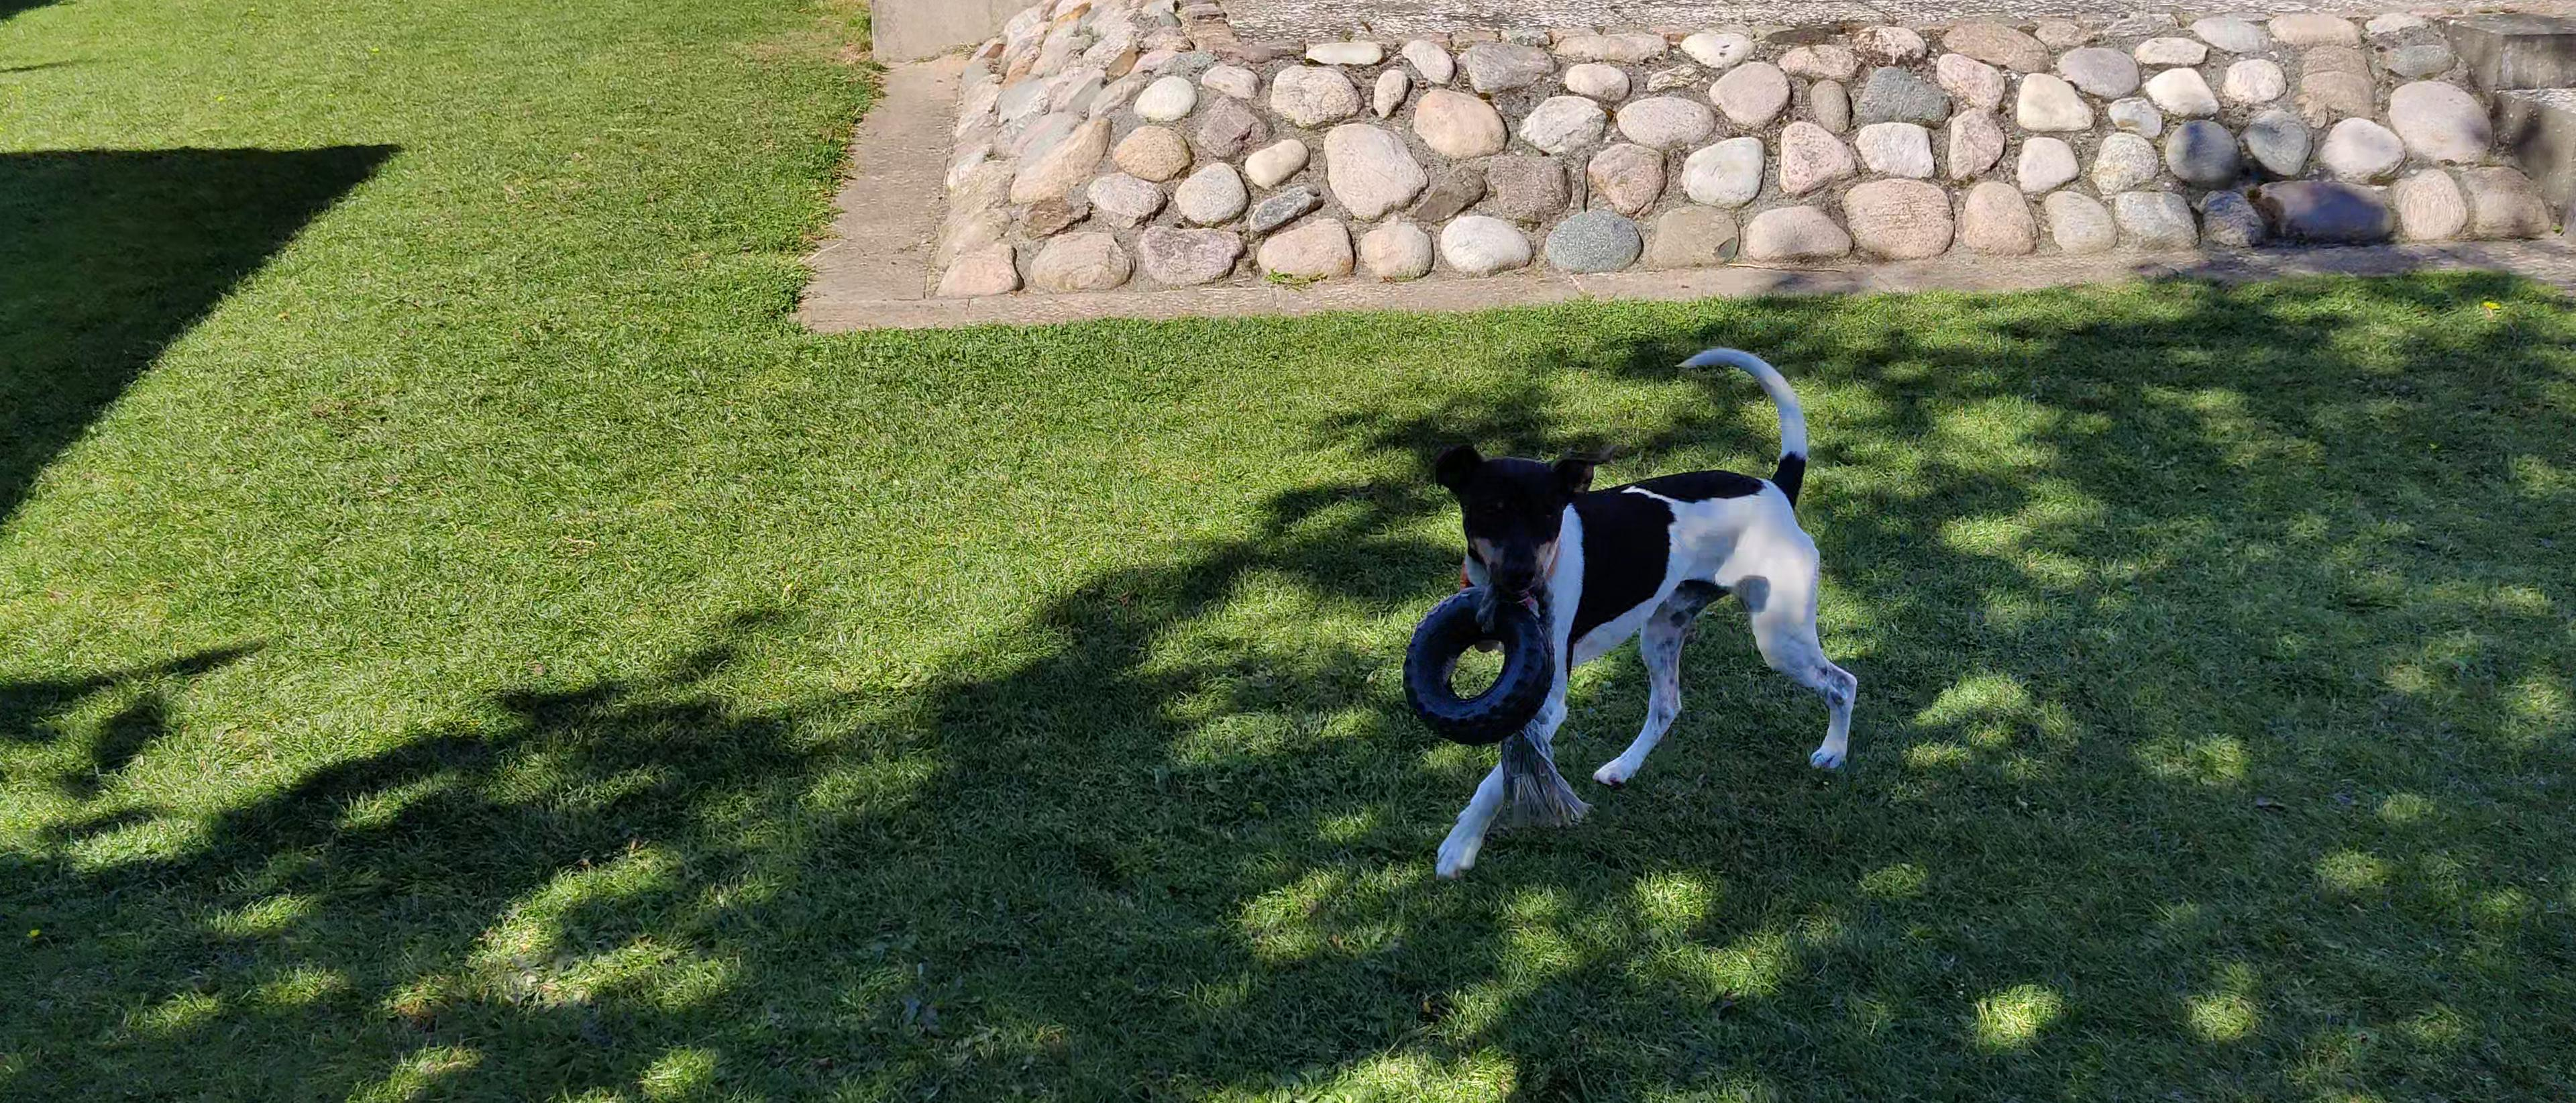Dog: (1414, 334, 1879, 896)
